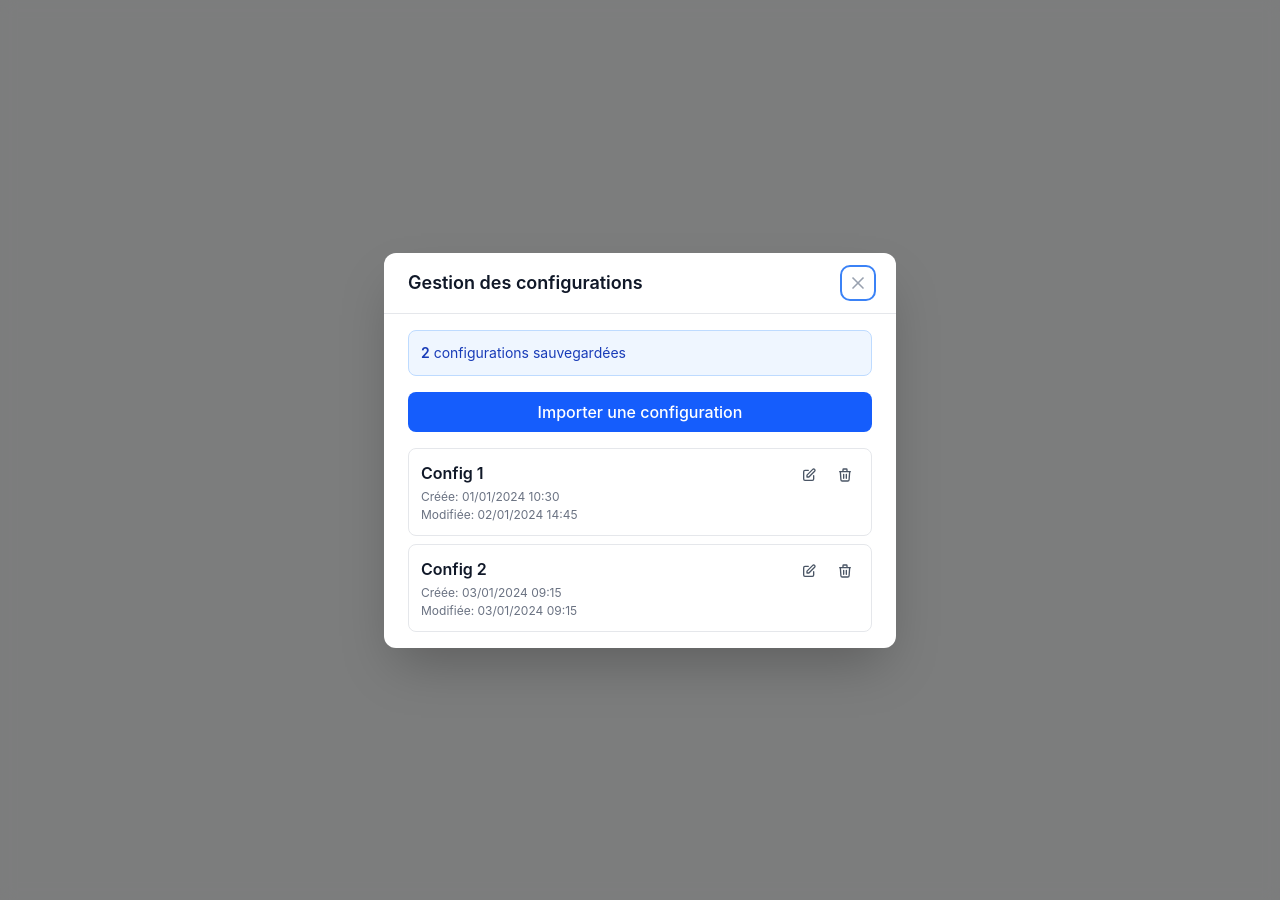
Test: ConfigManagementPanel › should show rename dialog with current name
Click the button named "Renommer Config 1" at (809, 474), box [795,460,823,488]
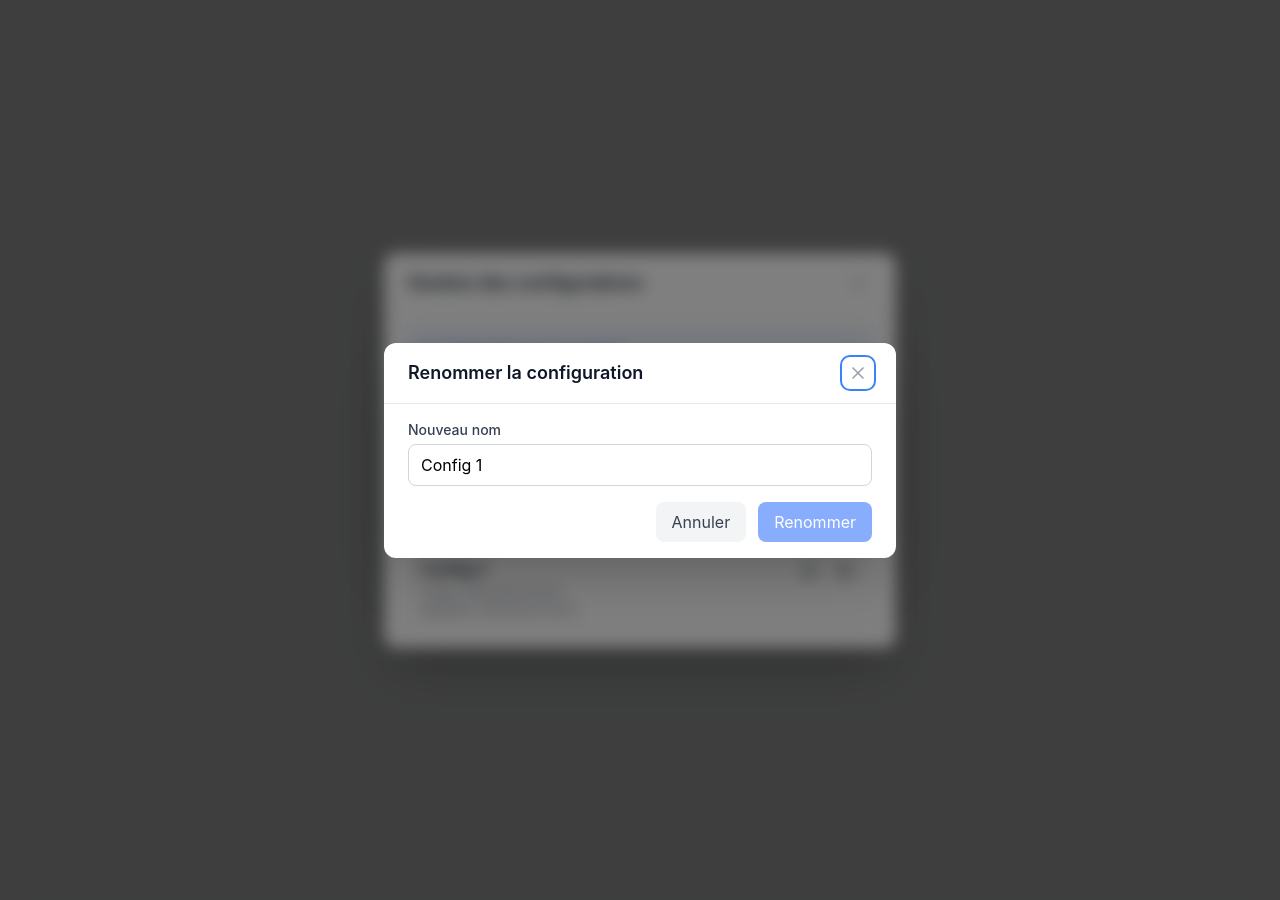
Now the heading "Renommer la configuration" is shown, box [408,358,643,386]
Now the field labelled "Nouveau nom" holds "Config 1", box [408,444,872,486]
